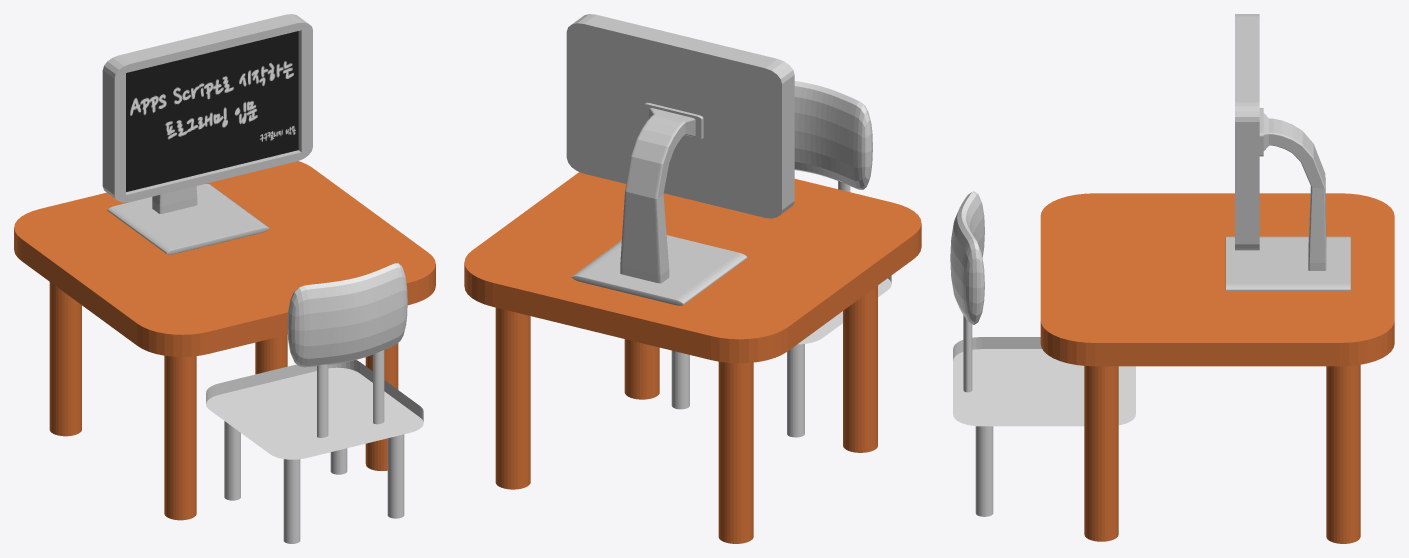
Rendered from desk_all_m_o.glb.
3 views of the same model, side by side, from view 1: azimuth 30°, elevation 25°; view 2: azimuth 150°, elevation 25°; view 3: azimuth 270°, elevation 25° (orthographic). The views are drawn at different scales.
Parts seen in each view (by area): view 1: desk, screen, monitor, chair_b, chair_f, silver; view 2: desk, monitor, chair_f, silver, chair_b; view 3: desk, monitor, chair_b, chair_f, silver.
Boxes of the visible parts, left/top/right/bottom form: desk: left=14, top=161, right=435, bottom=520; screen: left=126, top=31, right=298, bottom=191; monitor: left=102, top=14, right=312, bottom=254; chair_b: left=206, top=360, right=423, bottom=459; chair_f: left=287, top=263, right=407, bottom=367; silver: left=224, top=350, right=404, bottom=543; desk: left=464, top=172, right=921, bottom=543; monitor: left=566, top=14, right=794, bottom=305; chair_f: left=794, top=81, right=872, bottom=189; silver: left=671, top=180, right=850, bottom=437; chair_b: left=798, top=275, right=891, bottom=344; desk: left=1040, top=193, right=1394, bottom=543; monitor: left=1225, top=14, right=1350, bottom=291; chair_b: left=953, top=337, right=1135, bottom=426; chair_f: left=950, top=191, right=984, bottom=324; silver: left=963, top=315, right=993, bottom=516.
Bounding box in the file's own units: 0.4172 × 0.5477 × 0.5236.
Materials: 3 (1 with a texture image).
